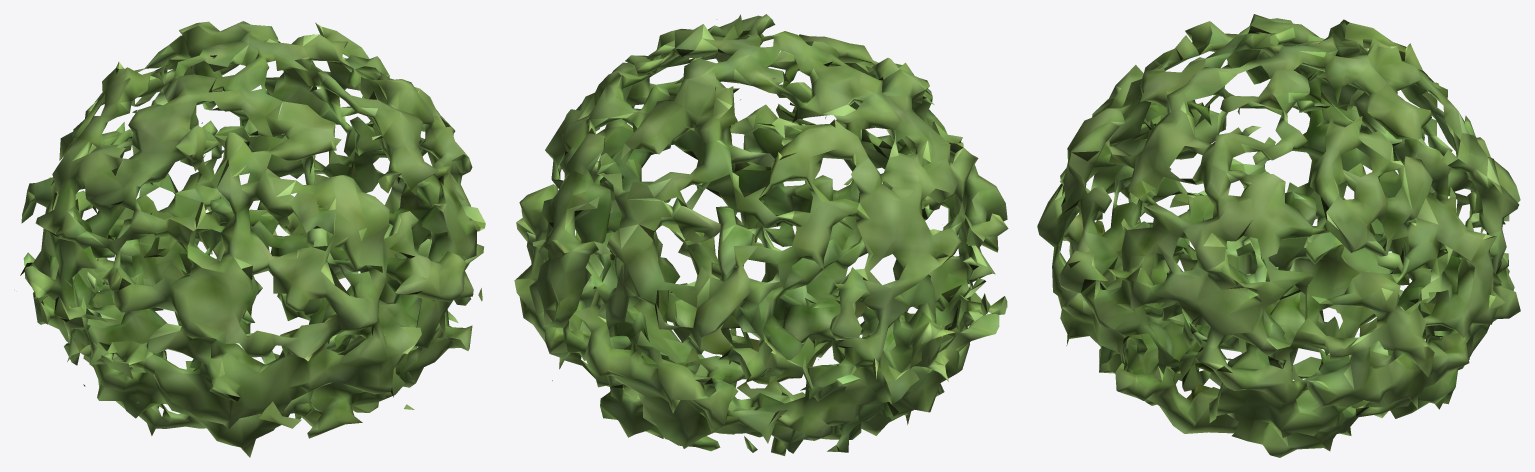
Rendered from BushBall.glb.
3 views of the same model, side by side, from view 1: azimuth 30°, elevation 25°; view 2: azimuth 150°, elevation 25°; view 3: azimuth 270°, elevation 25° (orthographic). The views are drawn at different scales.
Parts seen in each view (by area): view 1: BushBall; view 2: BushBall; view 3: BushBall.
Boxes of the visible parts, x1,y1,x2,y2 form: BushBall: (20, 21, 485, 457); BushBall: (514, 14, 1008, 455); BushBall: (1037, 14, 1520, 457).
Size of the model in its own units: 1.35 by 1.11 by 1.32.
1 material, 1 textured.
